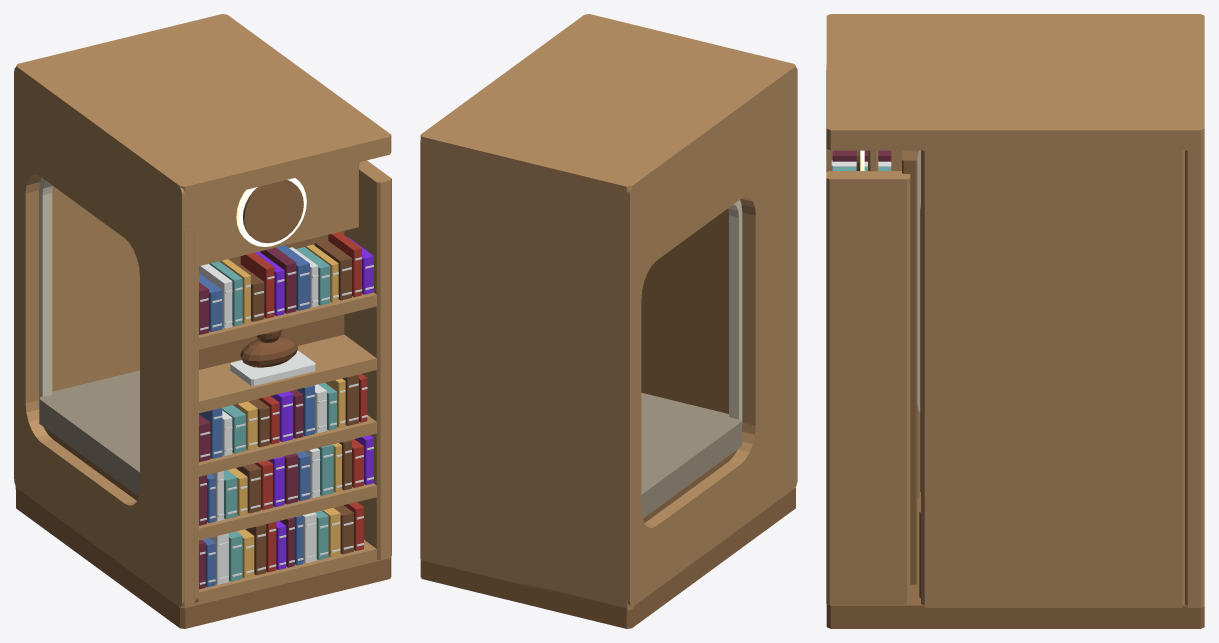
File: gh_bookshelf_pod_v01.glb
3 views of the same model, side by side, from view 1: azimuth 30°, elevation 25°; view 2: azimuth 150°, elevation 25°; view 3: azimuth 270°, elevation 25° (orthographic). The views are drawn at different scales.
Visible parts, largest first — view 1: Bookshelf shell and genuine side niche palette, Bust halo and fittings palette, Bookshelf shell and genuine side niche fabric, Bust halo and fittings warm_light; view 2: Bookshelf shell and genuine side niche palette, Bookshelf shell and genuine side niche fabric; view 3: Bookshelf shell and genuine side niche palette, Bookshelf shell and genuine side niche fabric.
Part boxes in pixels (bbox=[...]): Bookshelf shell and genuine side niche palette: bbox=[14, 14, 391, 628]; Bust halo and fittings palette: bbox=[199, 162, 359, 385]; Bookshelf shell and genuine side niche fabric: bbox=[39, 177, 139, 496]; Bust halo and fittings warm_light: bbox=[236, 178, 306, 246]; Bookshelf shell and genuine side niche palette: bbox=[420, 14, 797, 628]; Bookshelf shell and genuine side niche fabric: bbox=[641, 200, 742, 518]; Bookshelf shell and genuine side niche palette: bbox=[826, 14, 1204, 628]; Bookshelf shell and genuine side niche fabric: bbox=[917, 150, 920, 412].
Bounding box in the file's own units: 1.6 × 3.2 × 2.2.
3 materials, 3 textured.
